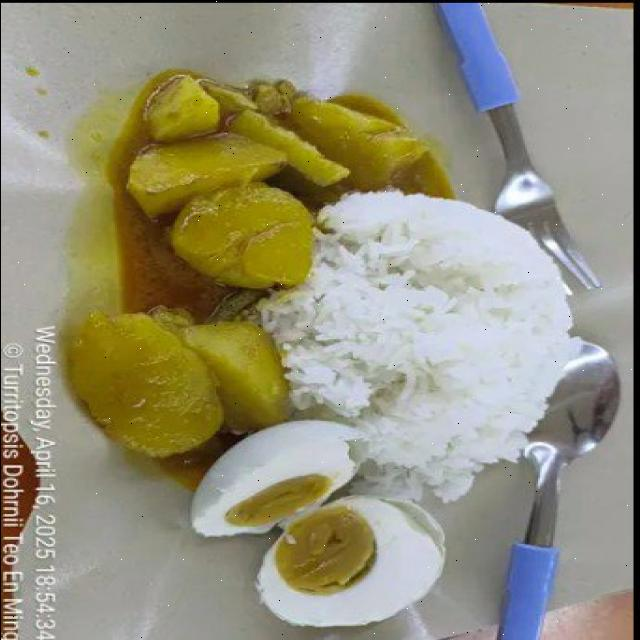Egg: (191, 421, 444, 626)
Potato: (127, 75, 432, 288), (73, 312, 288, 455)
Rice: (258, 194, 580, 500)
